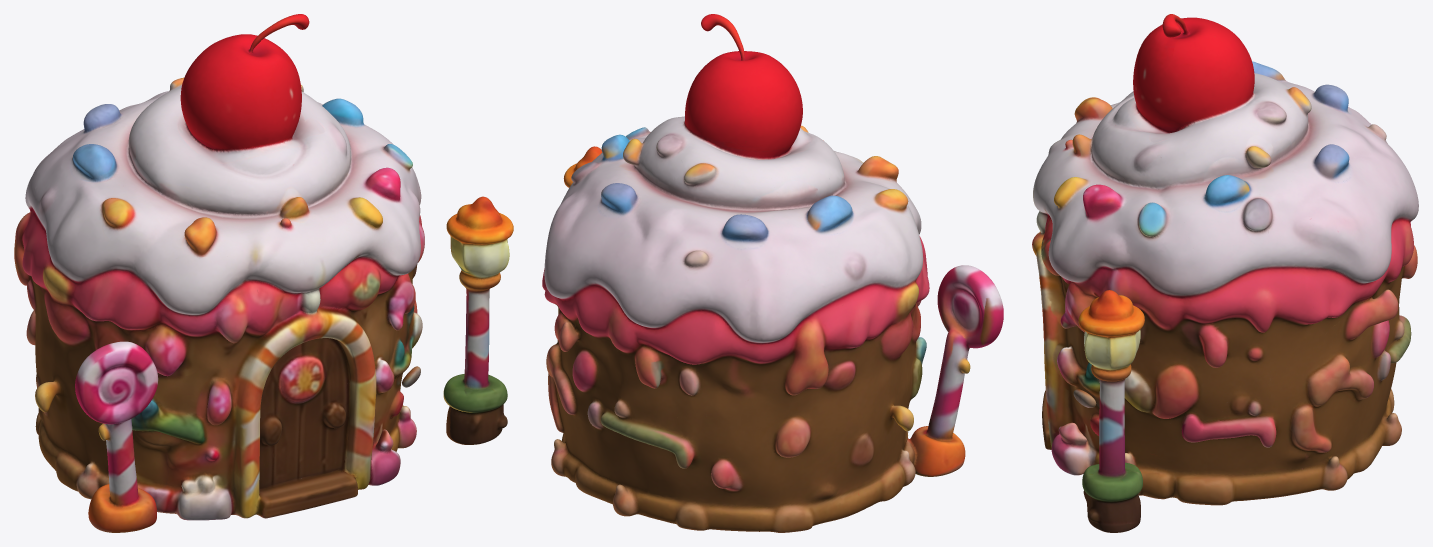
Rendered from Meshy_AI_Candy_Cottage_1019070354_texture.fbx.
3 views of the same model, side by side, from view 1: azimuth 30°, elevation 25°; view 2: azimuth 150°, elevation 25°; view 3: azimuth 270°, elevation 25° (orthographic). The views are drawn at different scales.
Parts seen in each view (by area): view 1: Mesh_0; view 2: Mesh_0; view 3: Mesh_0.
Part boxes in pixels (<box>): Mesh_0: <box>14,14,513,532</box>; Mesh_0: <box>542,14,1003,532</box>; Mesh_0: <box>1032,14,1418,532</box>.
Size of the model in its own units: 190 by 181 by 145.
1 material, 1 textured.
